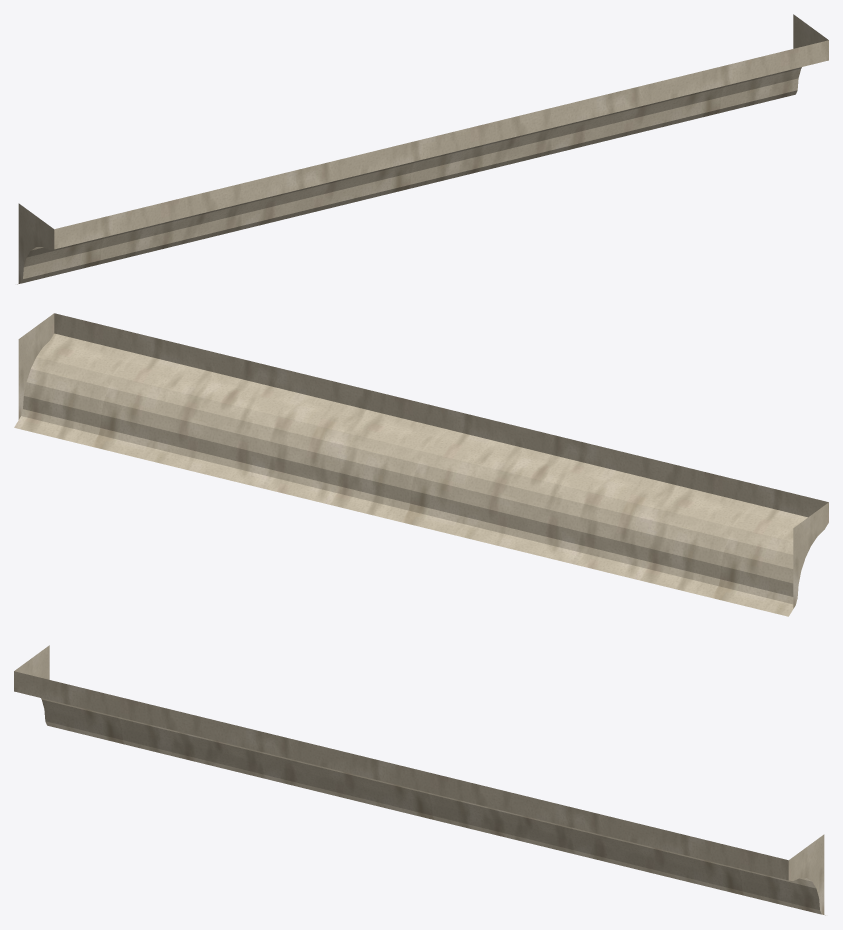
Rendered from cornice.glb.
3 renders of one model, top to bottom at view 1: azimuth 30°, elevation 25°; view 2: azimuth 150°, elevation 25°; view 3: azimuth 330°, elevation 25°, orthographic.
Visible parts, largest first — view 1: Cornice; view 2: Cornice; view 3: Cornice.
Part boxes in pixels (x1,y1,x2,y2): Cornice: (17,14,828,284); Cornice: (14,313,828,616); Cornice: (14,645,825,915).
Size of the model in its own units: 2 by 0.21 by 0.18.
1 material, 1 textured.
